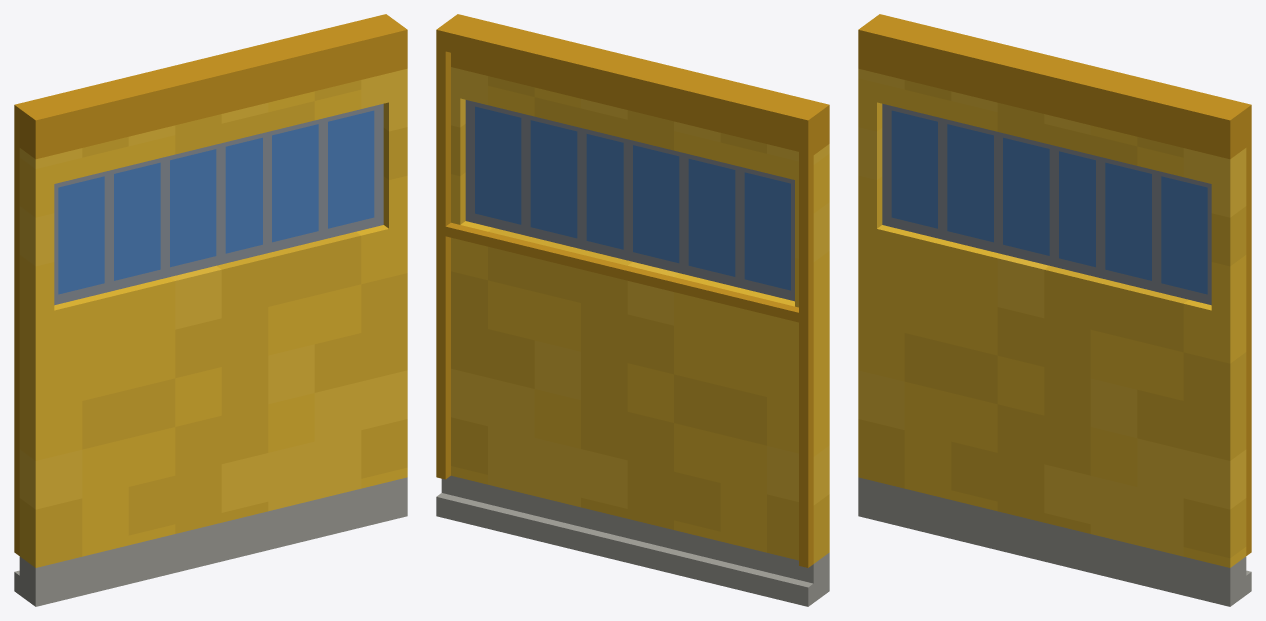
File: ws_wall_glazed.glb
3 views of the same model, side by side, from view 1: azimuth 30°, elevation 25°; view 2: azimuth 150°, elevation 25°; view 3: azimuth 330°, elevation 25° (orthographic).
Visible parts, largest first — view 1: wall; view 2: wall; view 3: wall.
Boxes of the visible parts, <box> form: wall: <box>14,14,407,606</box>; wall: <box>436,14,829,606</box>; wall: <box>858,14,1251,606</box>.
Bounding box in the file's own units: 4 × 5 × 0.4.
